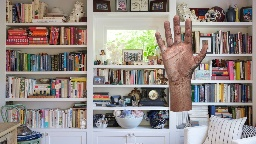Mano_aperta: (153, 14, 208, 80)
